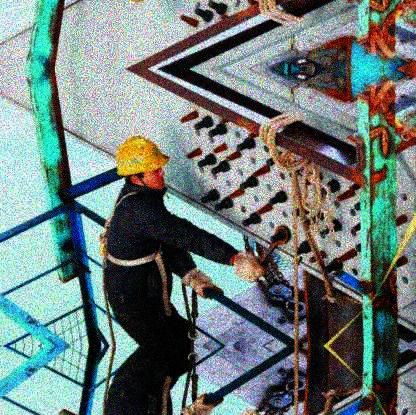helmet: (114, 136, 171, 196)
